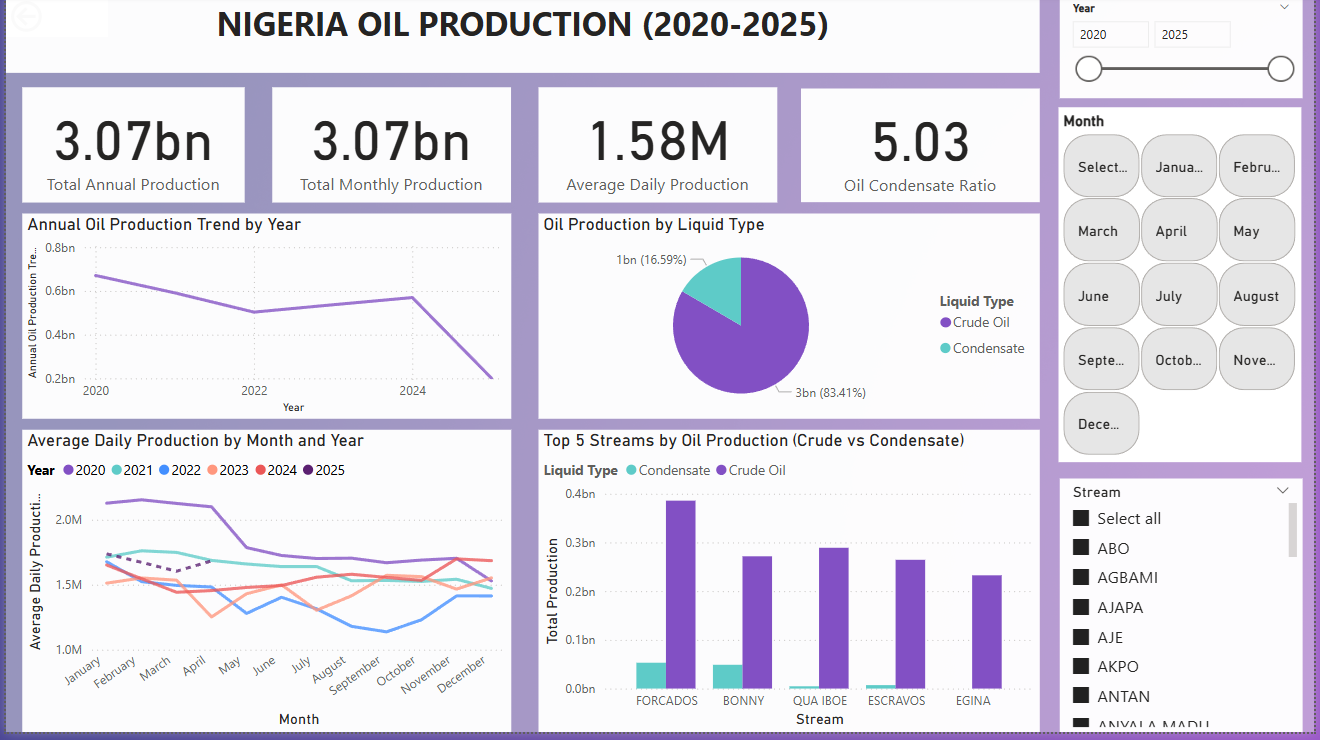

This screenshot's page, from the dashboard's own definition file:
{"tool":"powerbi","page":{"name":"Overview","canvas":[1280,720],"ordinal":0},"visuals":[{"type":"lineChart","fields":{"Series":["combined_cleaned_nuprc_production.Year"],"Category":["DateTable.Month"],"Y":["combined_cleaned_nuprc_production.Average Daily Production"]},"box":[15.9,424.3,478.1,295.9],"z":0},{"type":"card","fields":{"Values":["DateTable.Total Annual Production"]},"box":[15.9,89.3,217.7,112.5],"z":1000},{"type":"slicer","fields":{"Values":["DateTable.Year"]},"box":[1030.5,0,237.4,100.2],"z":2000},{"type":"advancedSlicerVisual","fields":{"Values":["DateTable.Month"]},"box":[1029.6,108.8,237.2,347.3],"z":3000},{"type":"actionButton","box":[0,0,100,40],"z":4000},{"type":"clusteredColumnChart","title":"Top 5 Streams by Oil Production (Crude vs Condensate)","fields":{"Y":["combined_cleaned_nuprc_production.Total Production"],"Category":["combined_cleaned_nuprc_production.Stream"],"Series":["combined_cleaned_nuprc_production.Liquid Type"]},"box":[520.9,424.3,490.4,295.9],"z":5000},{"type":"pieChart","title":"Oil Production by Liquid Type","fields":{"Y":["combined_cleaned_nuprc_production.Total Production"],"Category":["combined_cleaned_nuprc_production.Liquid Type"]},"box":[520.9,212.8,490.4,200.5],"z":6000},{"type":"slicer","fields":{"Values":["combined_cleaned_nuprc_production.Stream"]},"box":[1030.5,472,237.4,248.4],"z":7000},{"type":"lineChart","fields":{"Y":["Sum(combined_cleaned_nuprc_production.Production)"],"Category":["combined_cleaned_nuprc_production.Year"]},"box":[15.9,212.8,478.1,200.5],"z":8000},{"type":"textbox","box":[0,0,1011.3,75.5],"z":9000},{"type":"card","fields":{"Values":["combined_cleaned_nuprc_production.Average Daily Production"]},"box":[520.9,89.3,233.6,112.5],"z":10000},{"type":"card","fields":{"Values":["combined_cleaned_nuprc_production.OilCondensateRatio"]},"box":[777.7,90.5,233.6,111.3],"z":11000},{"type":"card","fields":{"Values":["combined_cleaned_nuprc_production.Total Monthly Production"]},"box":[260.5,89.3,233.6,112.5],"z":12000}]}

Visuals, with their boxes in screenshot pixels (x1, y1, x2, y2), scaled from the page's 1280x720 canvas onto the 1320x740 screenshot:
lineChart - combined_cleaned_nuprc_production.Year x DateTable.Month: (16, 436, 509, 739)
card - DateTable.Total Annual Production: (16, 92, 241, 207)
slicer - DateTable.Year: (1063, 0, 1308, 103)
advancedSlicerVisual - DateTable.Month: (1062, 112, 1306, 469)
actionButton: (0, 0, 103, 41)
"Top 5 Streams by Oil Production (Crude vs Condensate)" clusteredColumnChart: (537, 436, 1043, 739)
"Oil Production by Liquid Type" pieChart: (537, 219, 1043, 425)
slicer - combined_cleaned_nuprc_production.Stream: (1063, 485, 1308, 739)
lineChart - Sum(combined_cleaned_nuprc_production.Production) x combined_cleaned_nuprc_production.Year: (16, 219, 509, 425)
textbox: (0, 0, 1043, 78)
card - combined_cleaned_nuprc_production.Average Daily Production: (537, 92, 778, 207)
card - combined_cleaned_nuprc_production.OilCondensateRatio: (802, 93, 1043, 207)
card - combined_cleaned_nuprc_production.Total Monthly Production: (269, 92, 510, 207)
